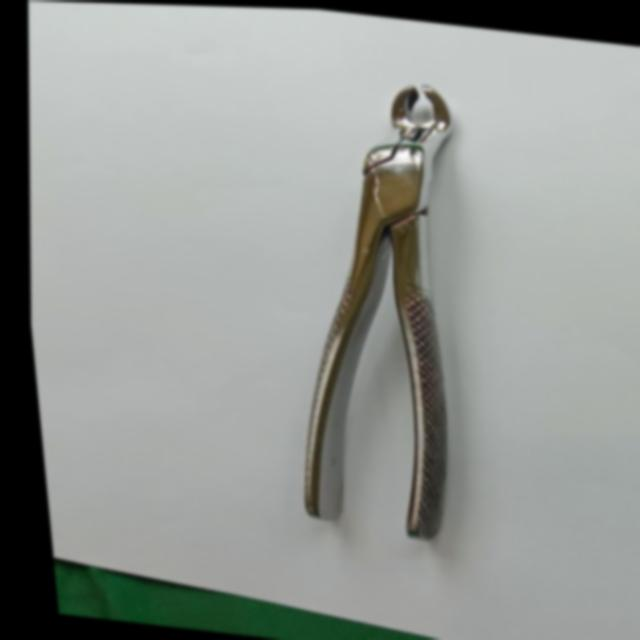BayonetForcep: (229, 55, 500, 550)
